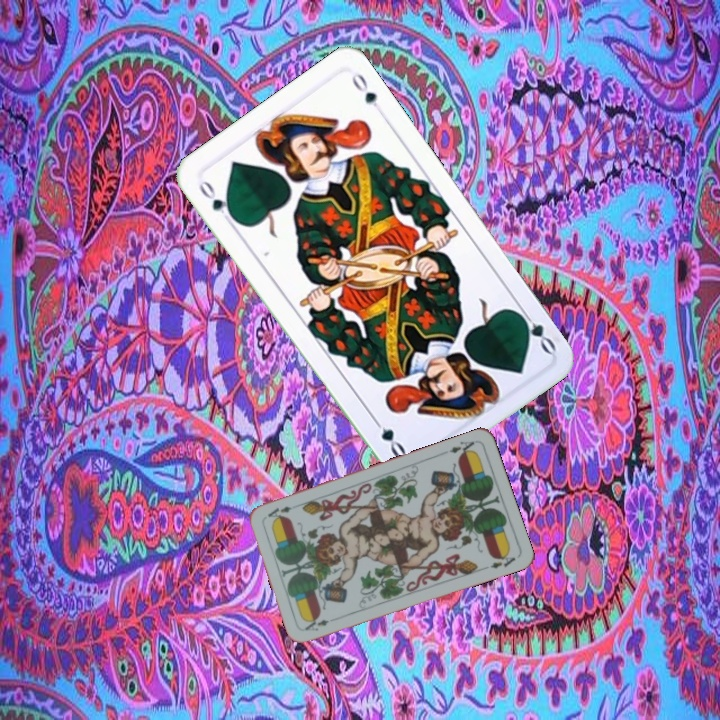EA: (439, 437, 479, 459), (301, 615, 331, 634)
GO: (512, 303, 559, 357), (194, 175, 239, 224)
